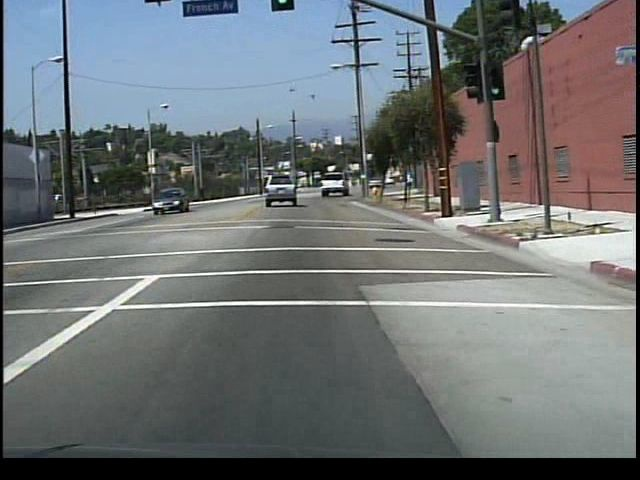person: (199, 183, 209, 205)
